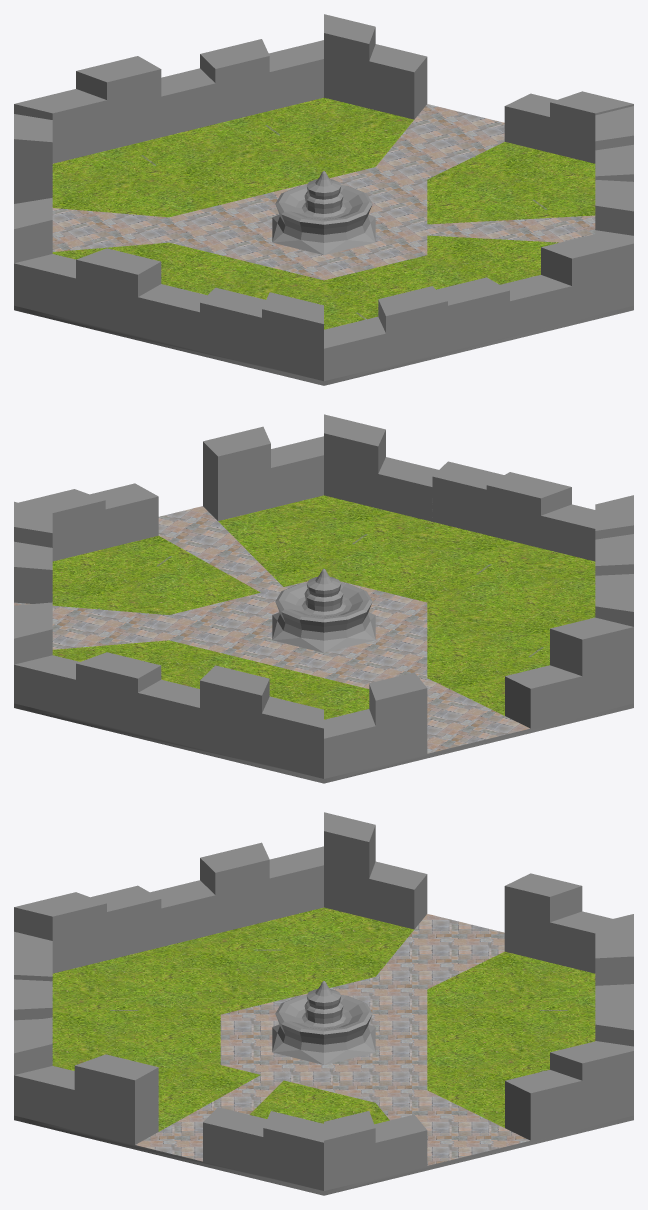
3 renders of one model, top to bottom at view 1: azimuth 30°, elevation 25°; view 2: azimuth 150°, elevation 25°; view 3: azimuth 270°, elevation 25°, orthographic.
Parts seen in each view (by area): view 1: Cylinder048; view 2: Cylinder048; view 3: Cylinder048.
Part boxes in pixels (<box>): Cylinder048: <box>14,14,633,385</box>; Cylinder048: <box>14,414,633,783</box>; Cylinder048: <box>14,812,633,1195</box>.
Bounding box in the file's own units: 140 × 17.48 × 121.
Materials: 5 (2 with a texture image).
